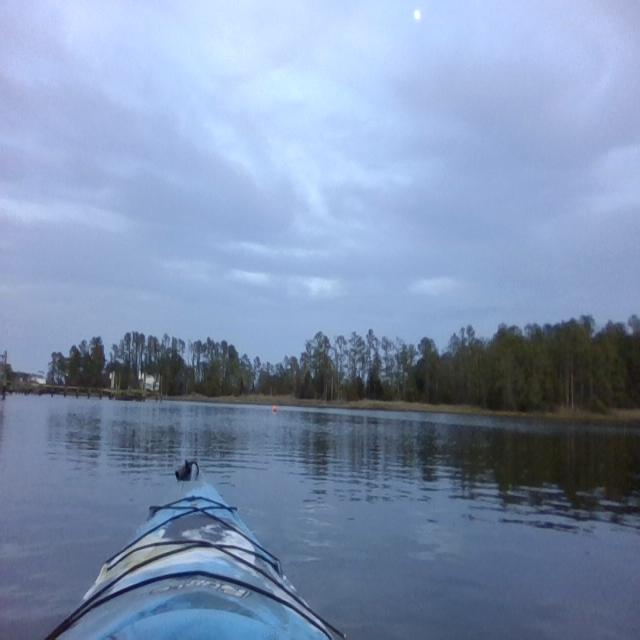Buoy: (272, 403, 278, 413)
